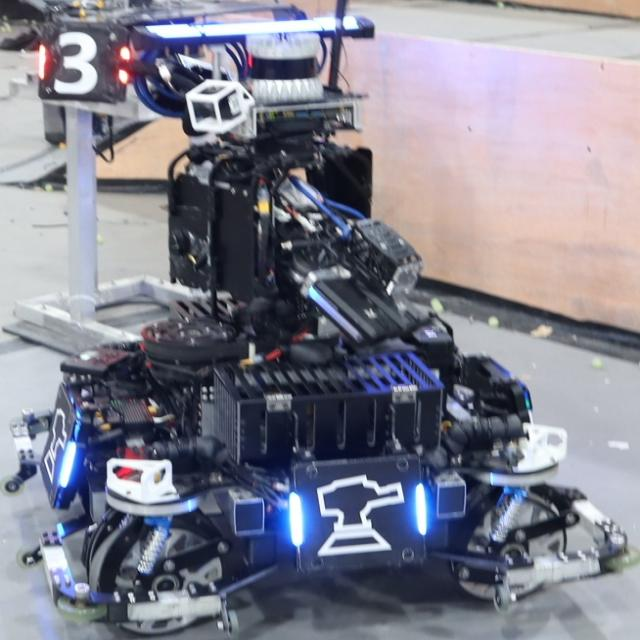Bs: (288, 472, 430, 556), (37, 396, 85, 496)
R3: (34, 30, 126, 94)
